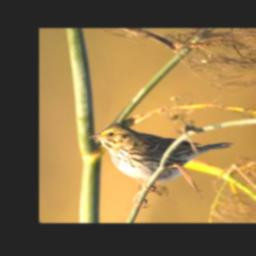Sparrow: (88, 120, 236, 209)
